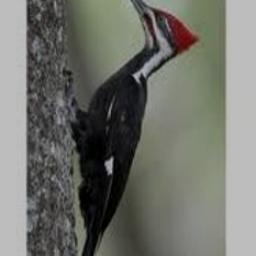Woodpecker: (70, 0, 201, 256)
